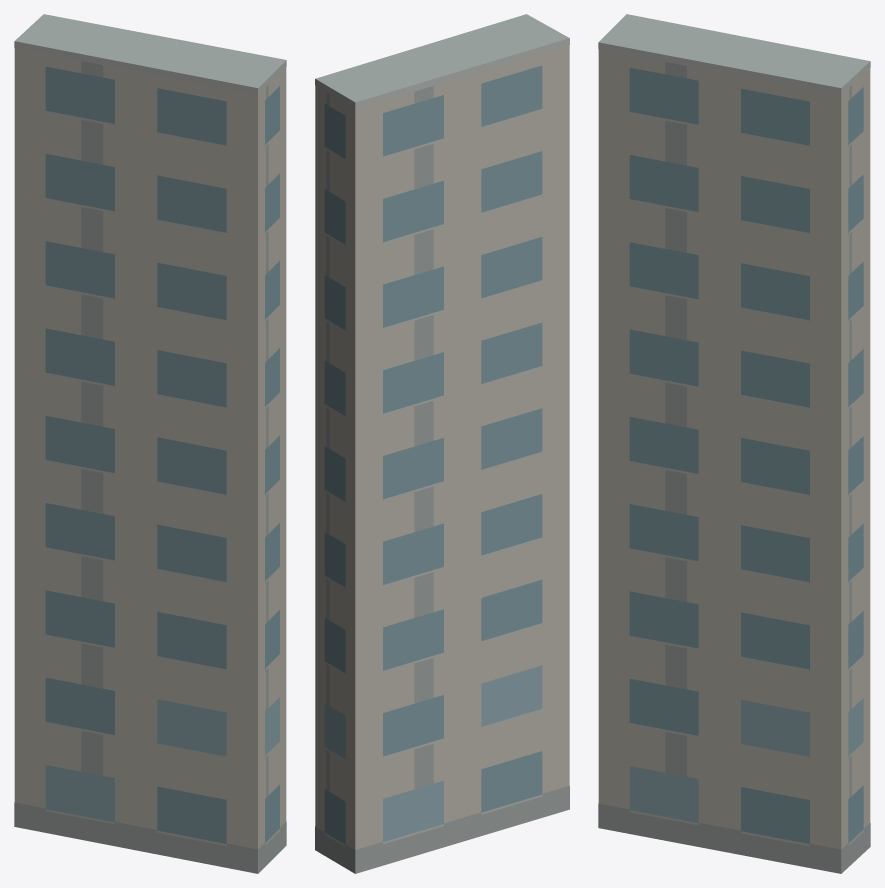
File: survey-upis-32668016.glb
The picture shows the model from 3 angles, left to right: view 1: azimuth 90°, elevation 25°; view 2: azimuth 150°, elevation 25°; view 3: azimuth 270°, elevation 25°; orthographic projection.
Parts seen in each view (by area): view 1: survey-upis-32668016.tmp; view 2: survey-upis-32668016.tmp; view 3: survey-upis-32668016.tmp.
Part boxes in pixels (bbox=[...]): survey-upis-32668016.tmp: bbox=[14, 14, 286, 873]; survey-upis-32668016.tmp: bbox=[315, 14, 569, 873]; survey-upis-32668016.tmp: bbox=[598, 14, 870, 873].
Size of the model in its own units: 5.57 by 27.45 by 8.62.
